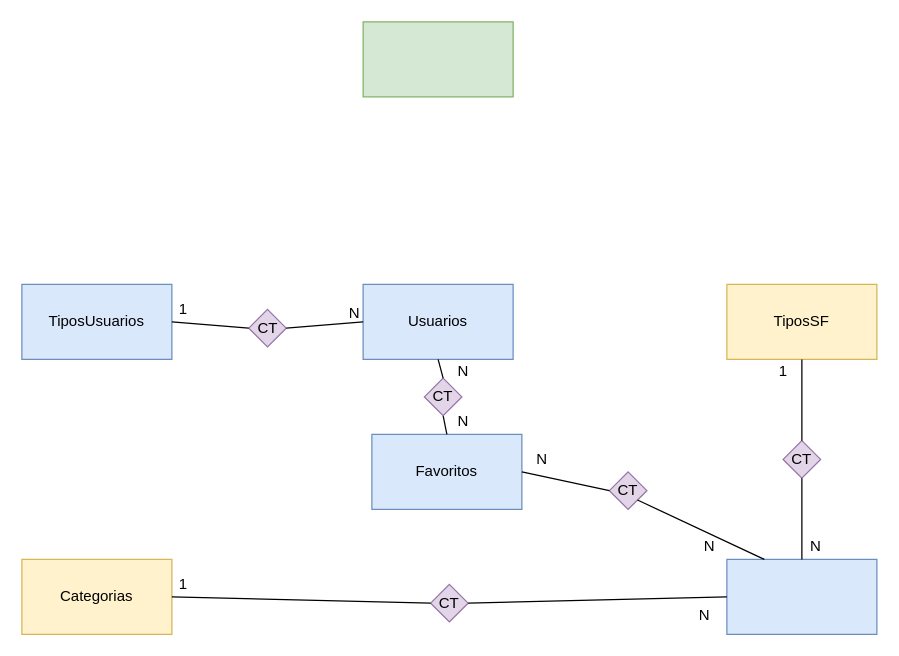
This 899x656 diagram has some shape labels left out. Each missing label, with the centre of its shape:
Conceitual: the point at 437,59
SFs: the point at 801,596
